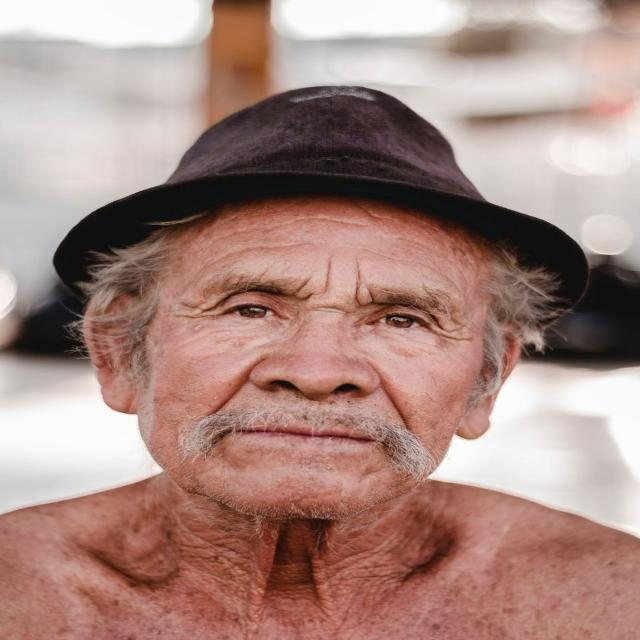Wrinkles: (239, 218, 370, 234), (226, 242, 358, 256), (358, 248, 432, 268), (358, 207, 393, 220), (429, 249, 452, 262), (443, 322, 468, 333), (325, 258, 330, 293), (406, 240, 427, 248), (292, 284, 306, 295), (444, 337, 474, 341), (177, 315, 207, 319), (357, 262, 360, 279)
